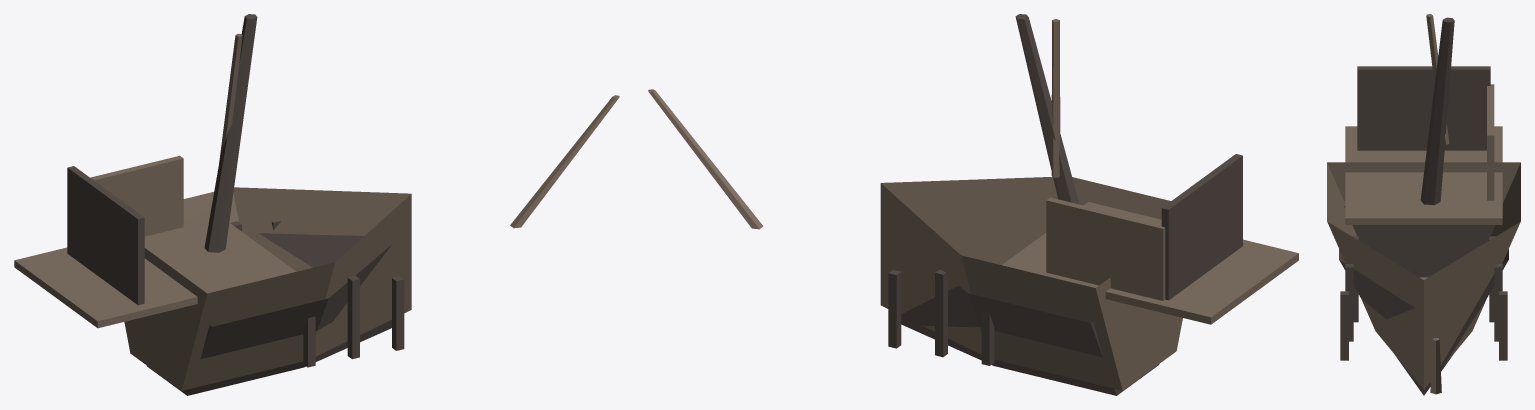
File: shipwreck.glb
The picture shows the model from 3 angles, left to right: view 1: azimuth 30°, elevation 25°; view 2: azimuth 150°, elevation 25°; view 3: azimuth 270°, elevation 25°; orthographic projection. The views are drawn at different scales.
Visible parts, largest first — view 1: shipwreck; view 2: shipwreck; view 3: shipwreck.
Part boxes in pixels (x1,y1,x2,y2): shipwreck: [14, 14, 619, 395]; shipwreck: [648, 14, 1298, 395]; shipwreck: [1327, 14, 1520, 395].
Size of the model in its own units: 10.26 by 5.7 by 3.2.
